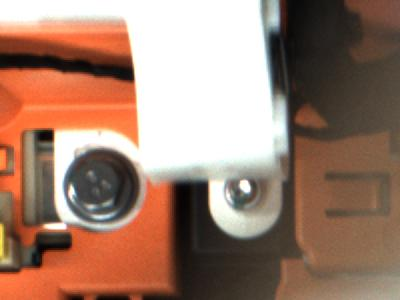nut_b: (53, 149, 137, 224)
